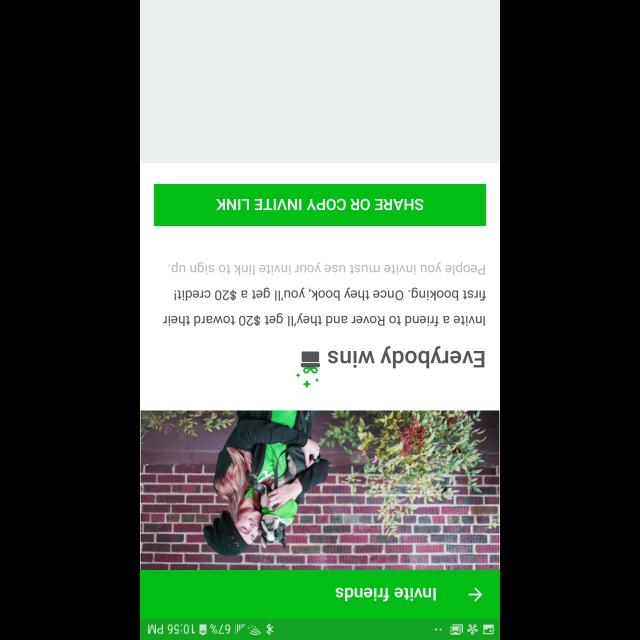icon: (468, 586, 482, 602)
image: (140, 410, 500, 570), (296, 352, 320, 388)
text: (162, 262, 486, 326), (328, 346, 484, 368), (336, 586, 436, 602)
textbutton: (154, 184, 486, 226)
uppertaskbar: (140, 618, 500, 640)
